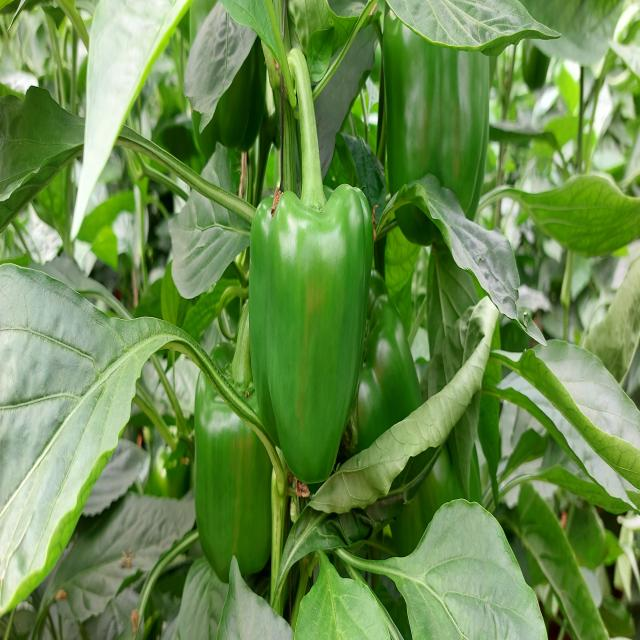Green--Not-ready-to-harvest: (252, 195, 366, 488), (386, 12, 490, 230), (200, 342, 274, 574), (371, 284, 426, 510)
